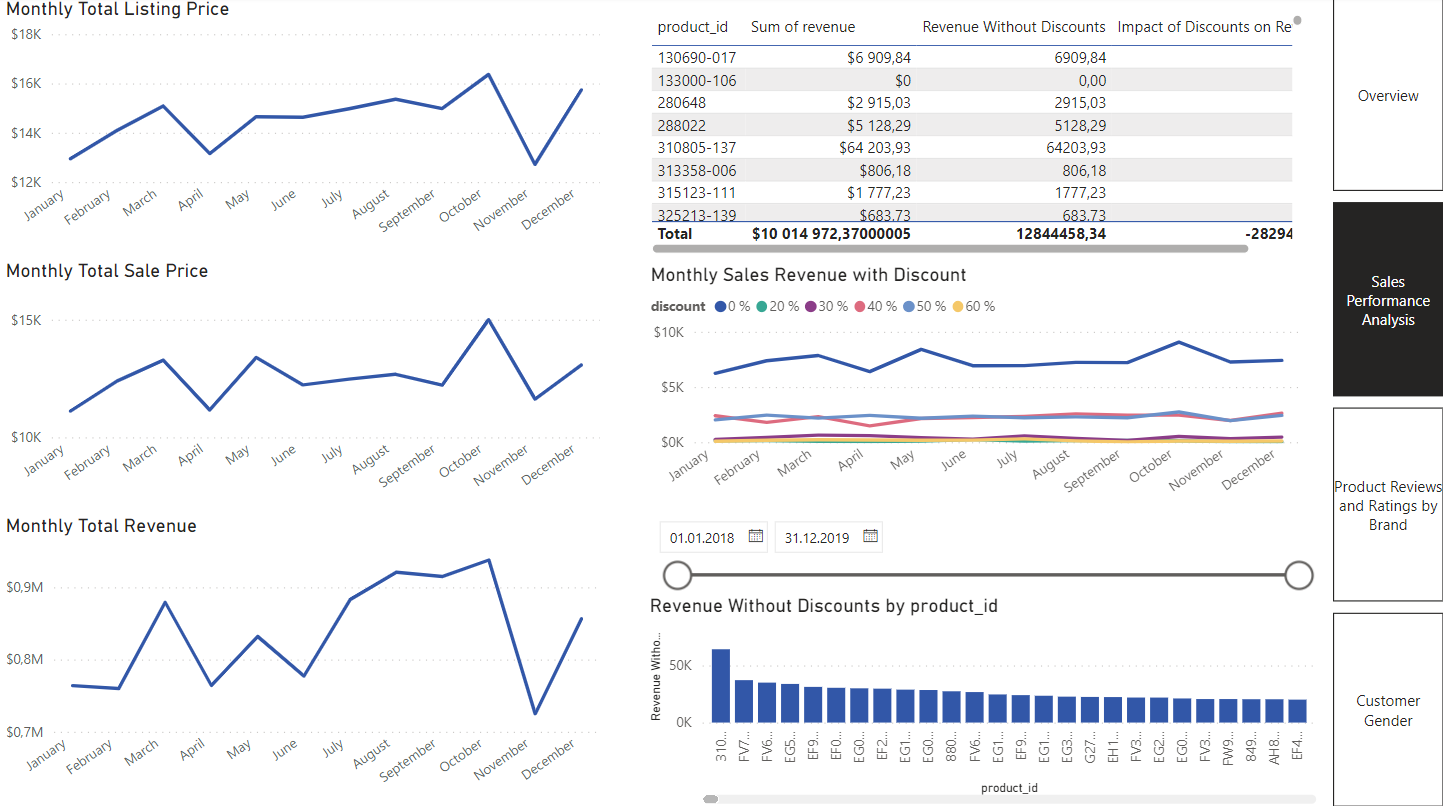

The page's visual inventory and layout, read from the dashboard file:
{"tool":"powerbi","page":{"name":"Sales Performance Analysis","canvas":[1280,720],"ordinal":1},"visuals":[{"type":"lineChart","title":"Monthly Total Sale Price","fields":{"Category":["Dim_traffic_v3.last_visited","Dim_traffic_v3.last_visited.Variation.Date Hierarchy.Year","Dim_traffic_v3.last_visited.Variation.Date Hierarchy.Quarter","Dim_traffic_v3.last_visited.Variation.Date Hierarchy.Month","Dim_traffic_v3.last_visited.Variation.Date Hierarchy.Day"],"Y":["Sum(Fact_finance.sale_price)"]},"box":[0,232.3,537.5,226.5],"z":0},{"type":"lineChart","title":"Monthly Total Revenue","fields":{"Category":["Dim_traffic_v3.last_visited.Variation.Date Hierarchy.Year","Dim_traffic_v3.last_visited.Variation.Date Hierarchy.Quarter","Dim_traffic_v3.last_visited.Variation.Date Hierarchy.Month","Dim_traffic_v3.last_visited.Variation.Date Hierarchy.Day"],"Y":["Sum(Fact_finance.revenue)"]},"box":[0,458.7,537.5,261.4],"z":1000},{"type":"lineChart","title":"Monthly Total Listing Price","fields":{"Category":["Dim_traffic_v3.last_visited.Variation.Date Hierarchy.Year","Dim_traffic_v3.last_visited.Variation.Date Hierarchy.Quarter","Dim_traffic_v3.last_visited.Variation.Date Hierarchy.Month","Dim_traffic_v3.last_visited.Variation.Date Hierarchy.Day"],"Y":["Sum(Fact_finance.listing_price)"]},"box":[0,0,537.5,232.3],"z":2000},{"type":"tableEx","fields":{"Values":["Fact_finance.product_id","Sum(Fact_finance.revenue)","Fact_finance.Discounted Sales","Fact_finance.Impact of Discounts on Revenue"]},"box":[571.5,10.7,588,221.6],"z":3000},{"type":"slicer","fields":{"Values":["Dim_traffic_v3.last_visited"]},"box":[571.5,454.9,600.6,73.9],"z":5000},{"type":"lineChart","title":"Monthly Sales Revenue with Discount","fields":{"Category":["Dim_traffic_v3.last_visited.Variation.Date Hierarchy.Year","Dim_traffic_v3.last_visited.Variation.Date Hierarchy.Quarter","Dim_traffic_v3.last_visited.Variation.Date Hierarchy.Month","Dim_traffic_v3.last_visited.Variation.Date Hierarchy.Day"],"Y":["Sum(Fact_finance.sale_price)"],"Series":["Fact_finance.discount"]},"box":[571.5,236.2,588,218.7],"z":6000},{"type":"pageNavigator","box":[1181.8,0,98.2,720.2],"z":7000},{"type":"clusteredColumnChart","fields":{"Category":["Fact_finance.product_id"],"Y":["Fact_finance.Revenue Without Discounts"]},"box":[571,529,601,191],"z":7001}]}

Visuals, with their boxes in screenshot pixels (x1, y1, x2, y2), scaled from the page's 1280x720 canvas onto the 1443x806 screenshot:
"Monthly Total Sale Price" lineChart: l=0, t=260, r=606, b=514
"Monthly Total Revenue" lineChart: l=0, t=513, r=606, b=805
"Monthly Total Listing Price" lineChart: l=0, t=0, r=606, b=260
tableEx - Fact_finance.product_id x Sum(Fact_finance.revenue): l=644, t=12, r=1307, b=260
slicer - Dim_traffic_v3.last_visited: l=644, t=509, r=1321, b=592
"Monthly Sales Revenue with Discount" lineChart: l=644, t=264, r=1307, b=509
pageNavigator: l=1332, t=0, r=1442, b=805
clusteredColumnChart - Fact_finance.product_id x Fact_finance.Revenue Without Discounts: l=644, t=592, r=1321, b=805
